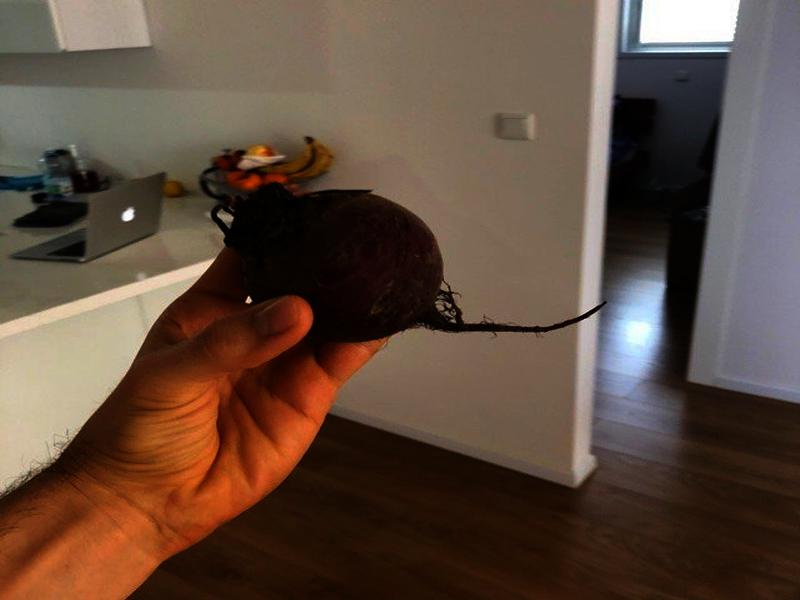Beet: (212, 185, 608, 340)
